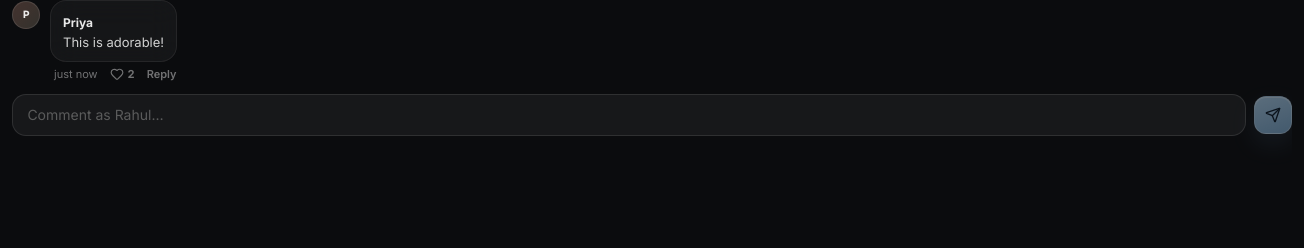
Test: CommentsPanel identity + likes › submits a comment attributed to the owner
The width and height of the screenshot is (1304, 248).
Expected: the link "Priya" is shown, [63,15,93,30]
Type "So cute" into the field with placeholder "Comment as Rahul…" at [629, 115], box [12,94,1246,136]
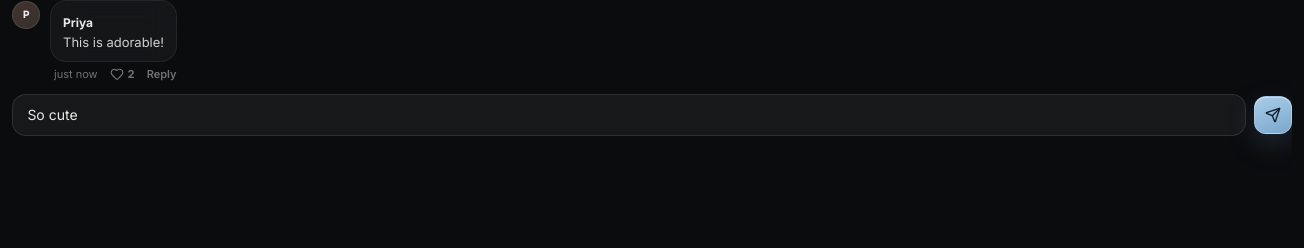
Click the button named "Send comment" at [1273, 115], box [1254,96,1292,134]
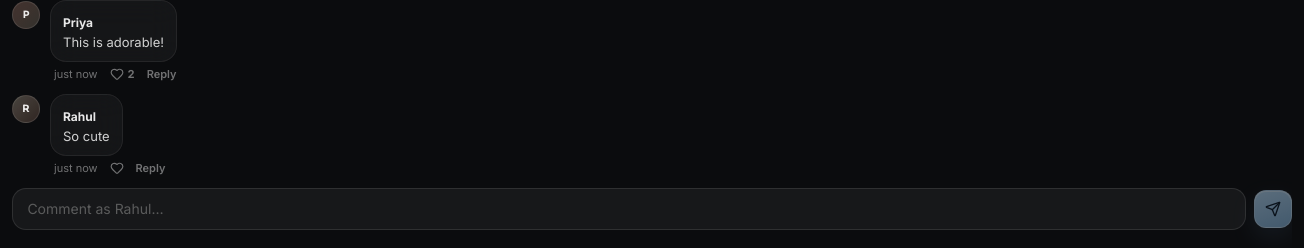
Expected: the text "So cute" is shown, [63,128,110,144]
